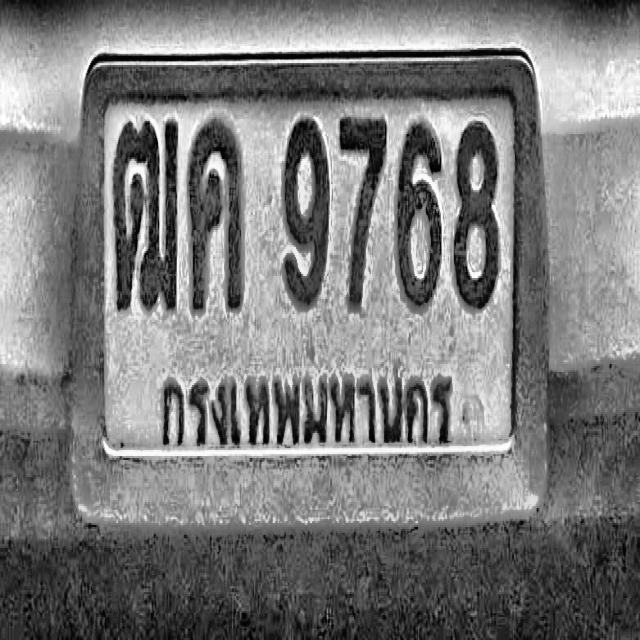license-plate: (53, 17, 566, 570)
